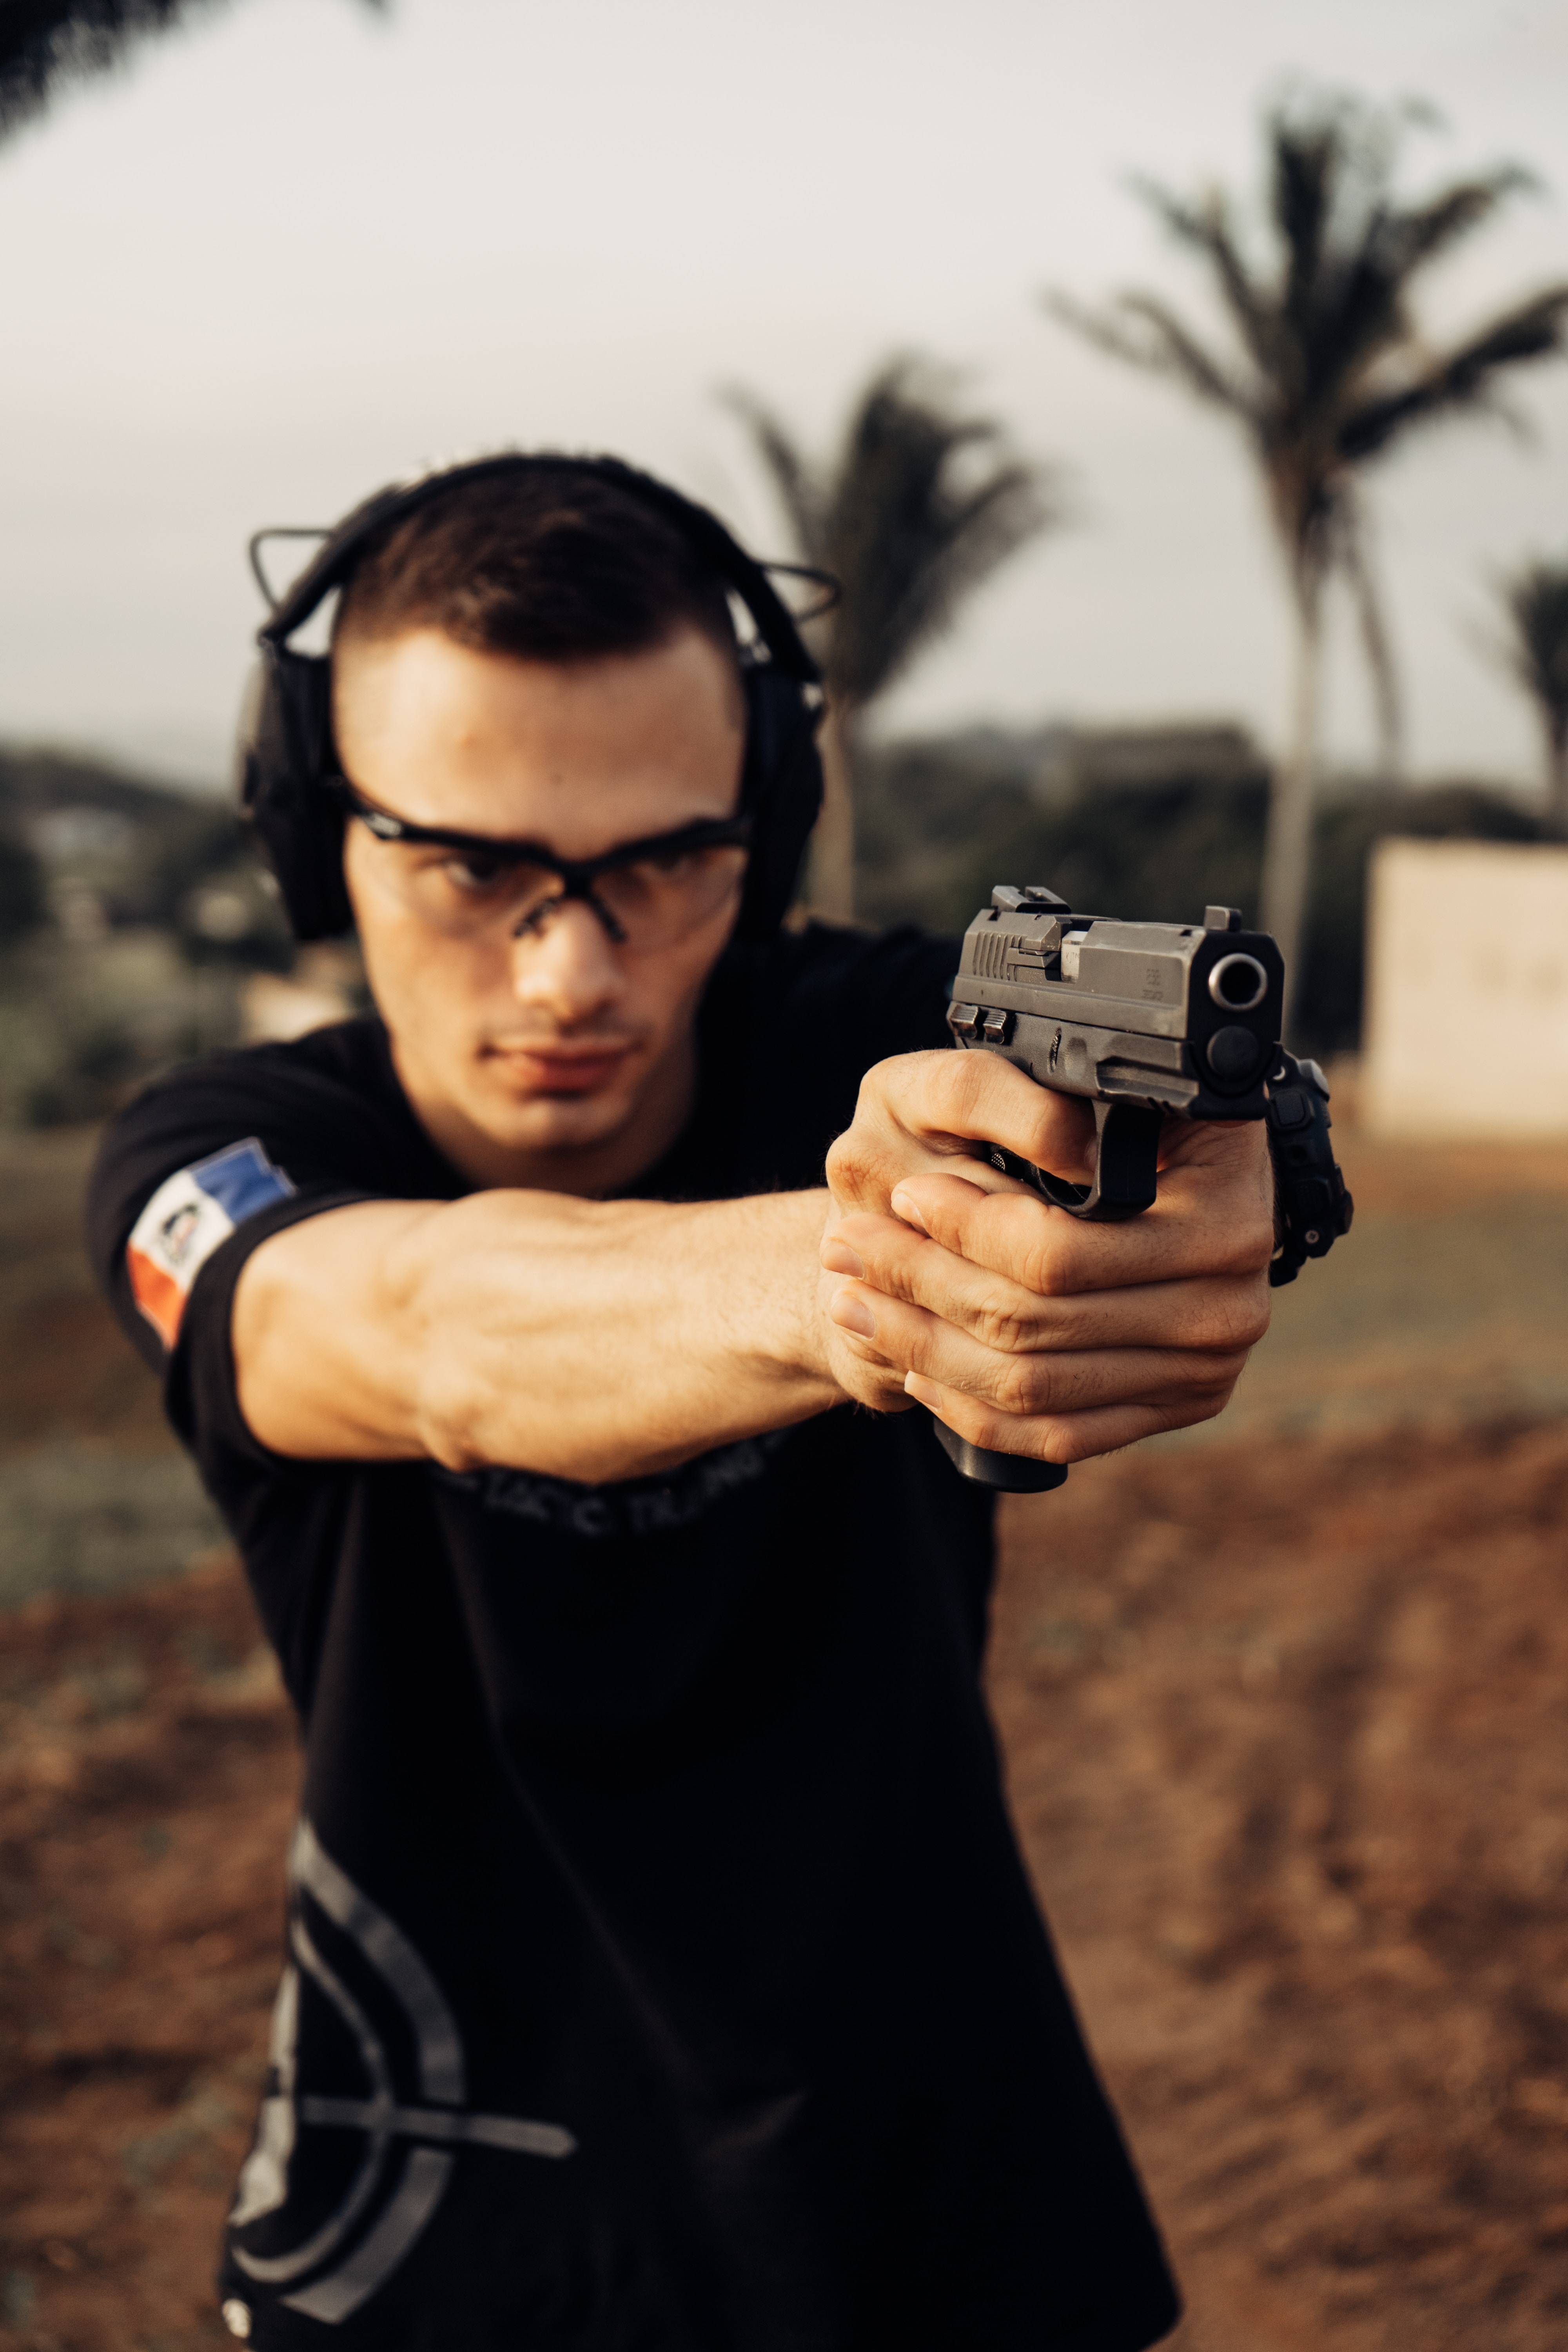gun: (910, 865, 1310, 1553)
person: (77, 441, 1352, 2352)
